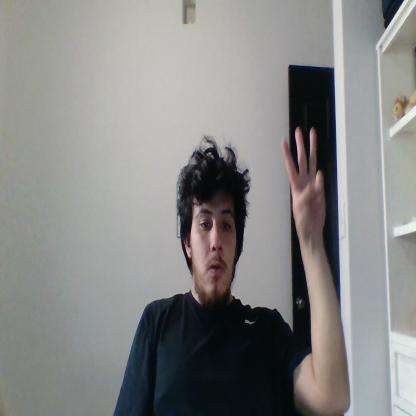W: (283, 128, 325, 237)
